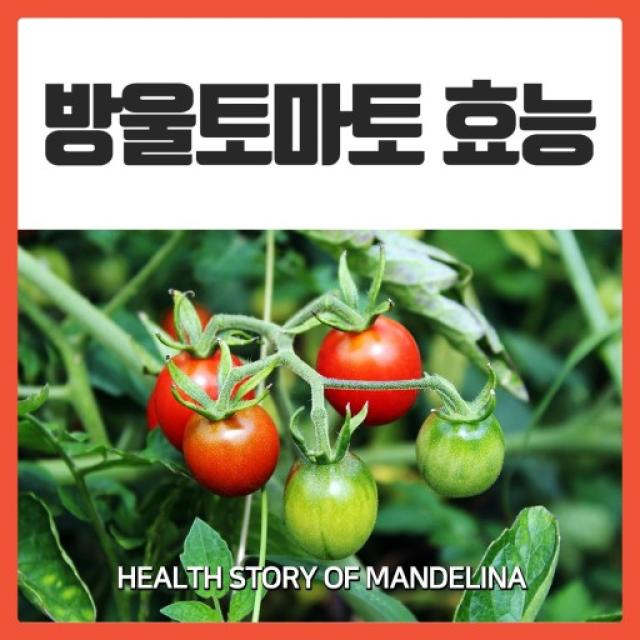level 1: (398, 391, 516, 504)
level 2: (274, 449, 392, 557)
level 5: (170, 391, 282, 510)
level 6: (306, 309, 432, 437), (140, 325, 250, 456)
